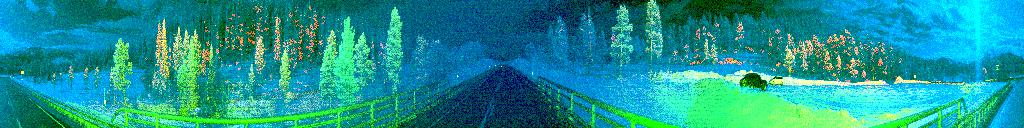pole: (101, 86, 109, 114)
